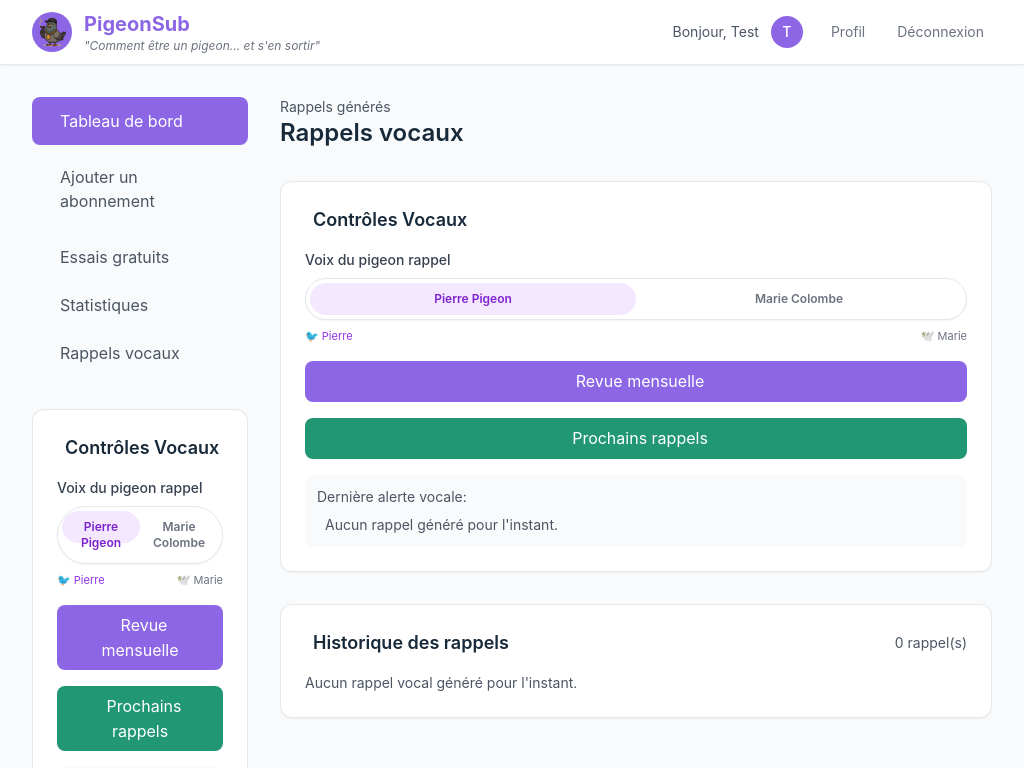
Scenario: Sidebar integration › clicking "Ajouter un abonnement" from voice reminders opens the modal
Click the button "Ajouter un abonnement". click: (140, 189)
box: left=32, top=153, right=248, bottom=225
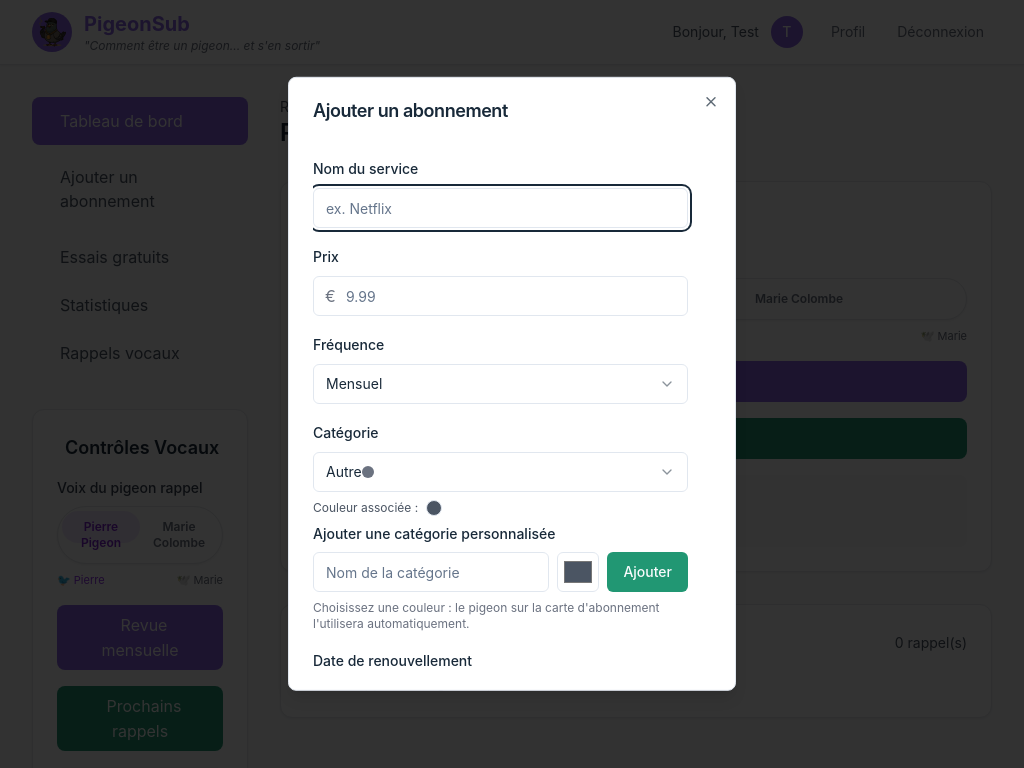
Now the heading "Ajouter un abonnement" is shown, box left=313, top=100, right=508, bottom=121
